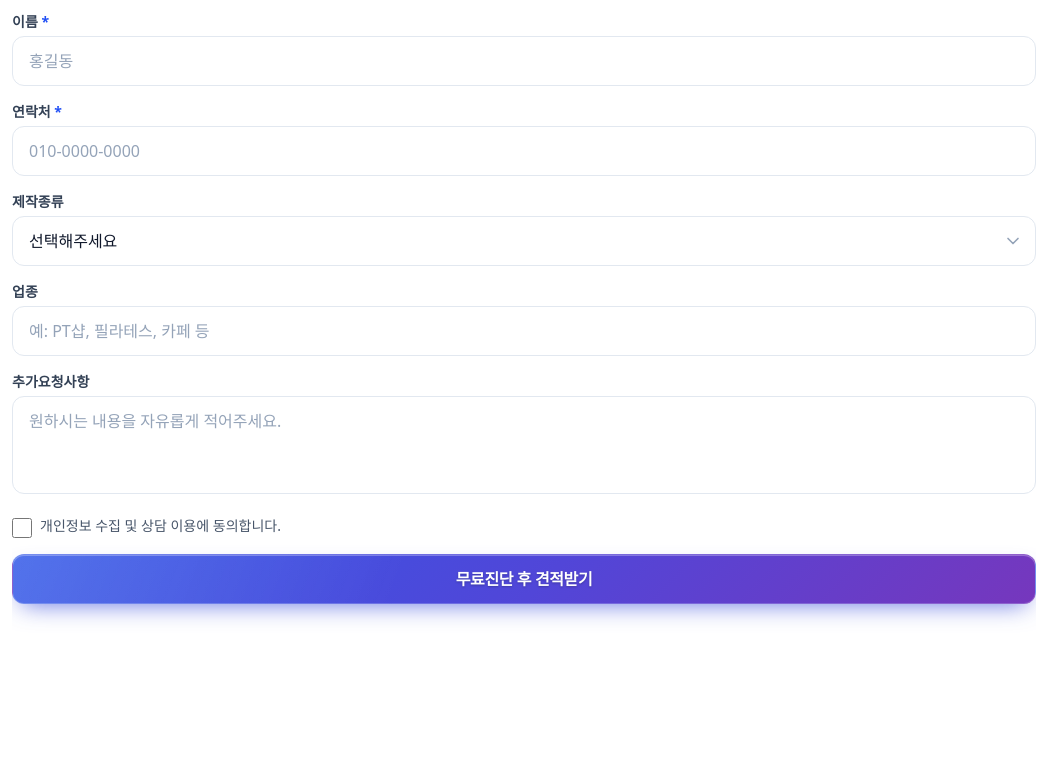
Test: SubmissionForm › shows error when name missing
Click the button: (524, 579) left=12, top=554, right=1036, bottom=604
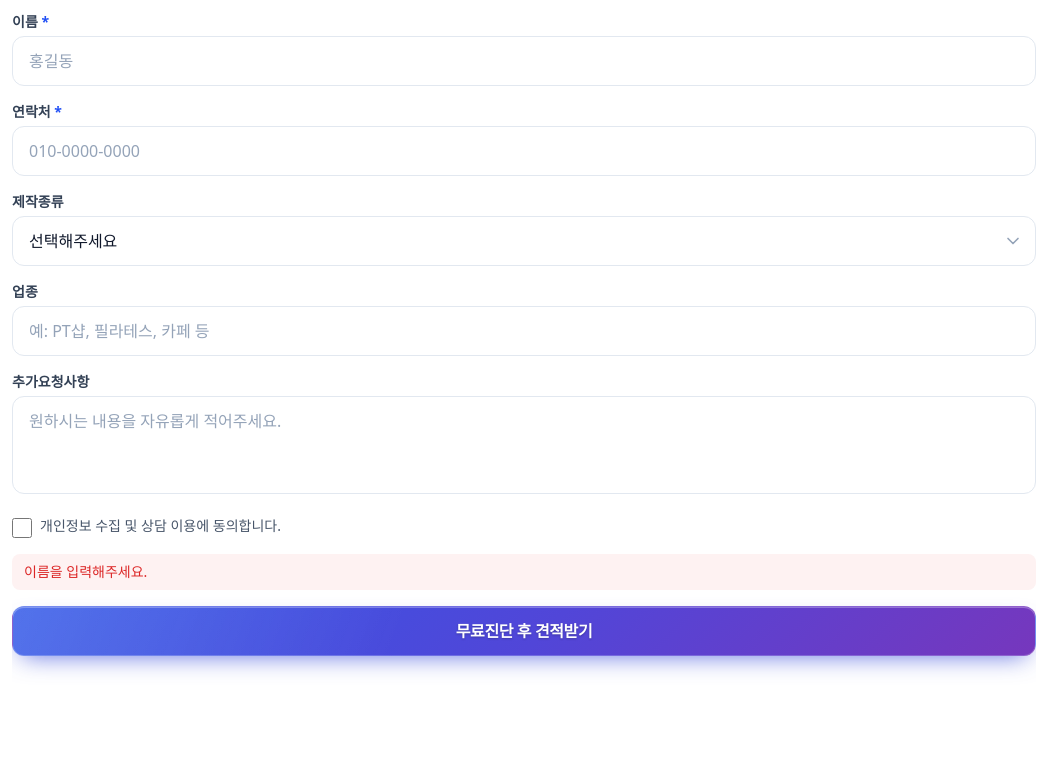
Expected: the text "이름을 입력해주세요." is shown, left=12, top=554, right=1036, bottom=590
